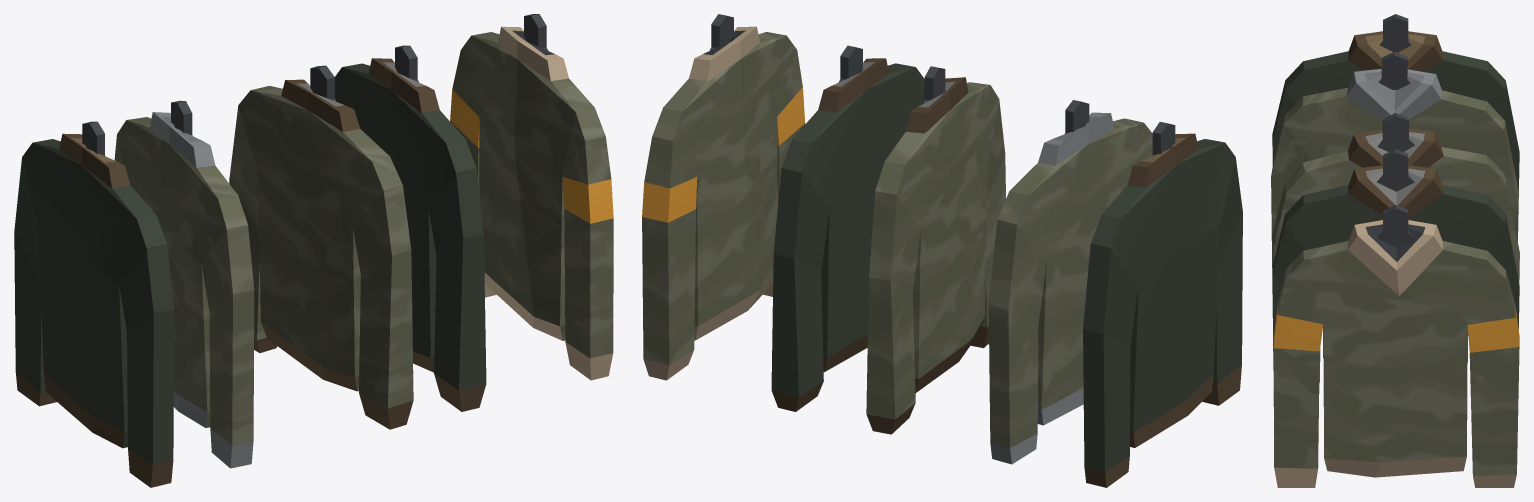
Rendered from SM_Prop_Clothes_Hunting_Jacket_Set_01.obj.
3 views of the same model, side by side, from view 1: azimuth 30°, elevation 25°; view 2: azimuth 150°, elevation 25°; view 3: azimuth 270°, elevation 25° (orthographic). The views are drawn at different scales.
Visible parts, largest first — view 1: SM_Prop_Clothes_Hunting_Jacket_Set_01_0; view 2: SM_Prop_Clothes_Hunting_Jacket_Set_01_0; view 3: SM_Prop_Clothes_Hunting_Jacket_Set_01_0.
Part boxes in pixels (x1,y1,x2,y2): SM_Prop_Clothes_Hunting_Jacket_Set_01_0: (14, 14, 613, 487); SM_Prop_Clothes_Hunting_Jacket_Set_01_0: (642, 14, 1242, 487); SM_Prop_Clothes_Hunting_Jacket_Set_01_0: (1271, 14, 1519, 487).
Bounding box in the file's own units: 1.55 × 0.9833 × 0.797.
1 material, 1 textured.
